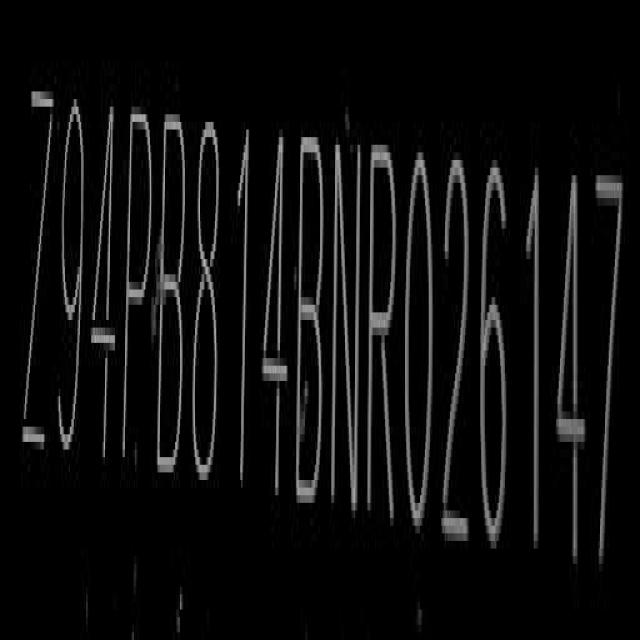0: (405, 149, 436, 544)
1: (522, 164, 545, 568), (235, 125, 252, 496)
2: (443, 150, 475, 551)
4: (554, 165, 588, 570), (260, 128, 292, 508), (92, 94, 119, 473)
6: (480, 152, 511, 557)
7: (596, 161, 629, 573)
8: (194, 120, 226, 492)
9: (53, 90, 83, 471)
B: (296, 128, 329, 512), (156, 106, 189, 486)
N: (331, 126, 363, 520)
P: (123, 99, 156, 479)
R: (366, 132, 400, 526)
Z: (22, 78, 50, 469)
